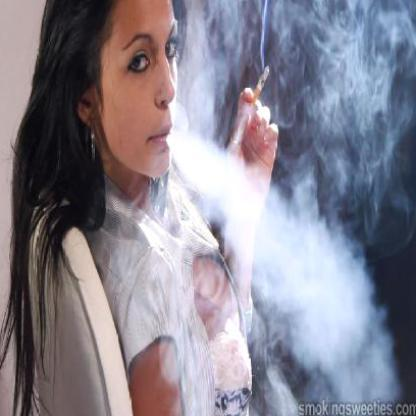cigarette: (252, 60, 271, 103)
person: (30, 0, 194, 415)
smoke: (283, 2, 415, 198), (252, 195, 383, 392), (181, 0, 240, 151)
